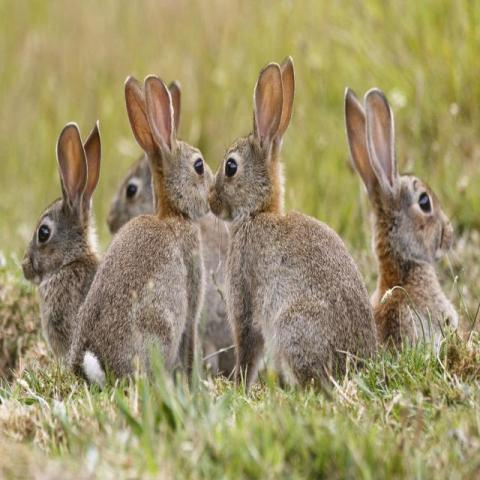small_animal: (206, 54, 380, 396), (64, 73, 216, 392), (342, 85, 464, 359), (20, 118, 106, 371)
